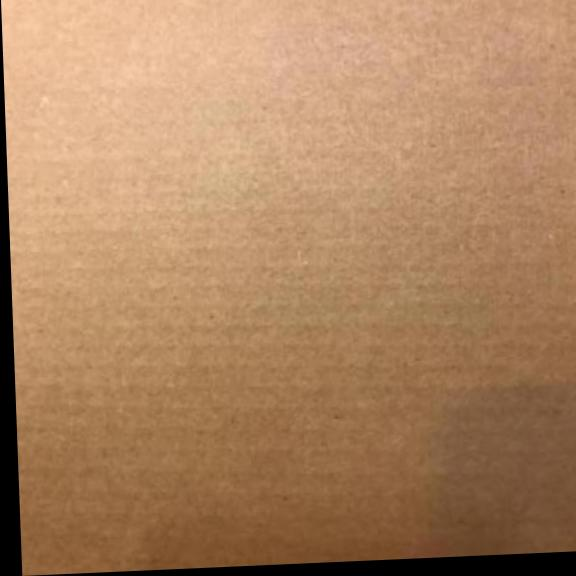Kertas: (2, 0, 576, 574)
